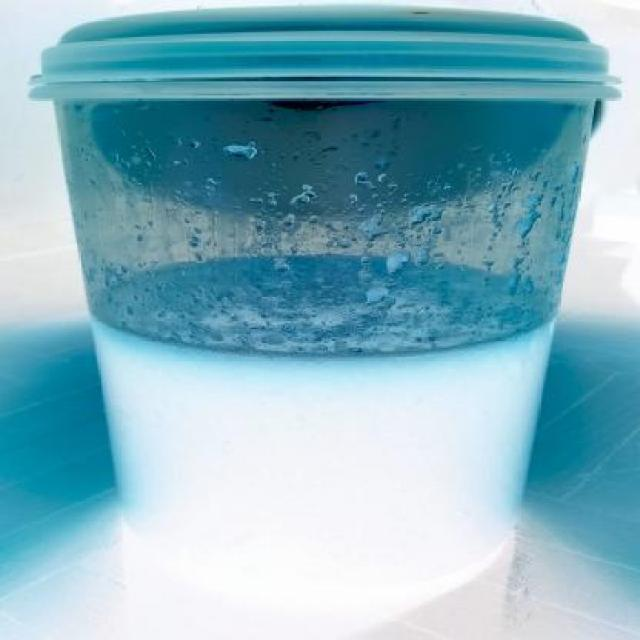Milk: (88, 257, 556, 585)
